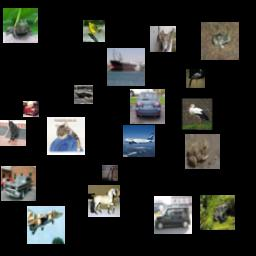airplane: (27, 206, 65, 244), (123, 125, 155, 157)
automobile: (154, 196, 192, 234), (130, 89, 165, 124), (1, 166, 36, 201)
bird: (181, 98, 213, 130), (83, 20, 105, 42), (186, 69, 205, 88), (74, 85, 93, 104)
cat: (47, 117, 85, 155), (150, 26, 176, 52), (0, 120, 26, 146), (102, 165, 118, 181)
frog: (201, 22, 239, 60), (185, 134, 220, 169), (3, 8, 38, 43), (200, 195, 235, 230)
ship: (107, 48, 145, 86)
truck: (23, 101, 39, 117)
